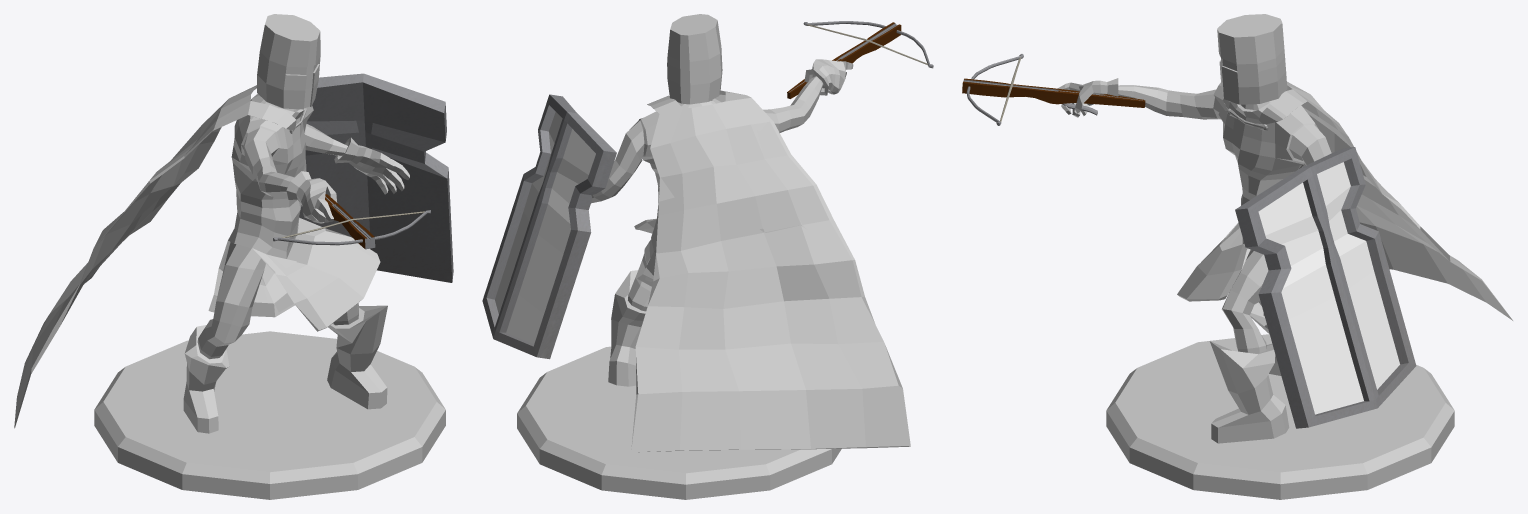
The model's file is Templar_Crossbow_Shield.fbx.
3 renders of one model, left to right at view 1: azimuth 30°, elevation 25°; view 2: azimuth 150°, elevation 25°; view 3: azimuth 270°, elevation 25°, orthographic. The views are drawn at different scales.
Parts seen in each view (by area): view 1: Templar_Crossbow_Shield, pasted__polySurface1, pasted__Shield2, pasted__pasted__polySurface3; view 2: Templar_Crossbow_Shield, pasted__polySurface1, pasted__Shield2, pasted__pasted__polySurface3; view 3: Templar_Crossbow_Shield, pasted__Shield2, pasted__polySurface1, pasted__pasted__polySurface3.
Boxes of the visible parts, x1,y1,x2,y2 form: Templar_Crossbow_Shield: (14,14,409,433); pasted__polySurface1: (94,331,445,499); pasted__Shield2: (299,73,453,282); pasted__pasted__polySurface3: (273,194,430,249); Templar_Crossbow_Shield: (591,14,910,452); pasted__polySurface1: (517,346,841,499); pasted__Shield2: (482,94,616,359); pasted__pasted__polySurface3: (787,21,933,98); Templar_Crossbow_Shield: (1057,14,1512,443); pasted__Shield2: (1235,147,1416,428); pasted__polySurface1: (1106,334,1454,499); pasted__pasted__polySurface3: (962,54,1145,125).
Bounding box in the file's own units: 291 × 257 × 317.
